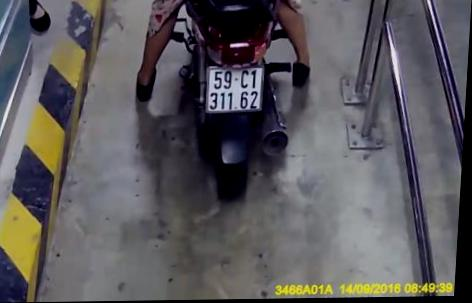License_Plate: (200, 64, 268, 118)
